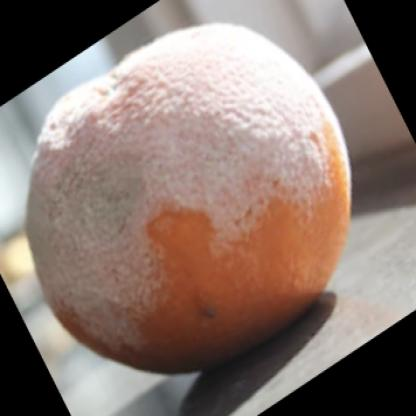rotten: (29, 23, 354, 369)
